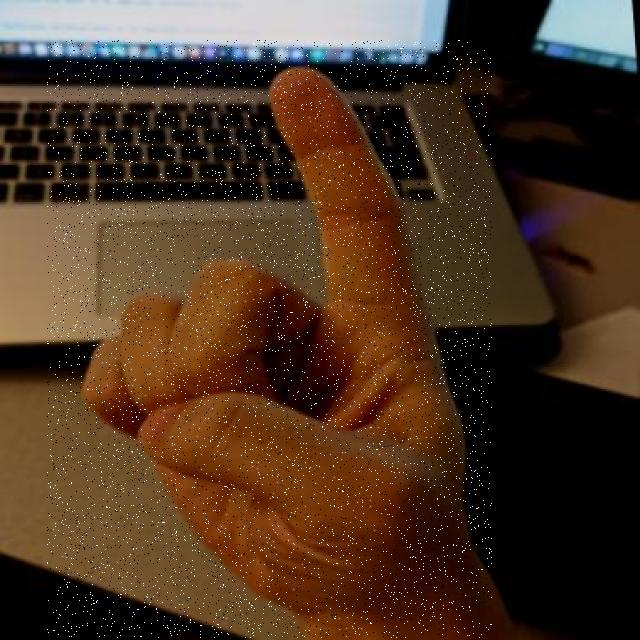D: (47, 41, 492, 638)
